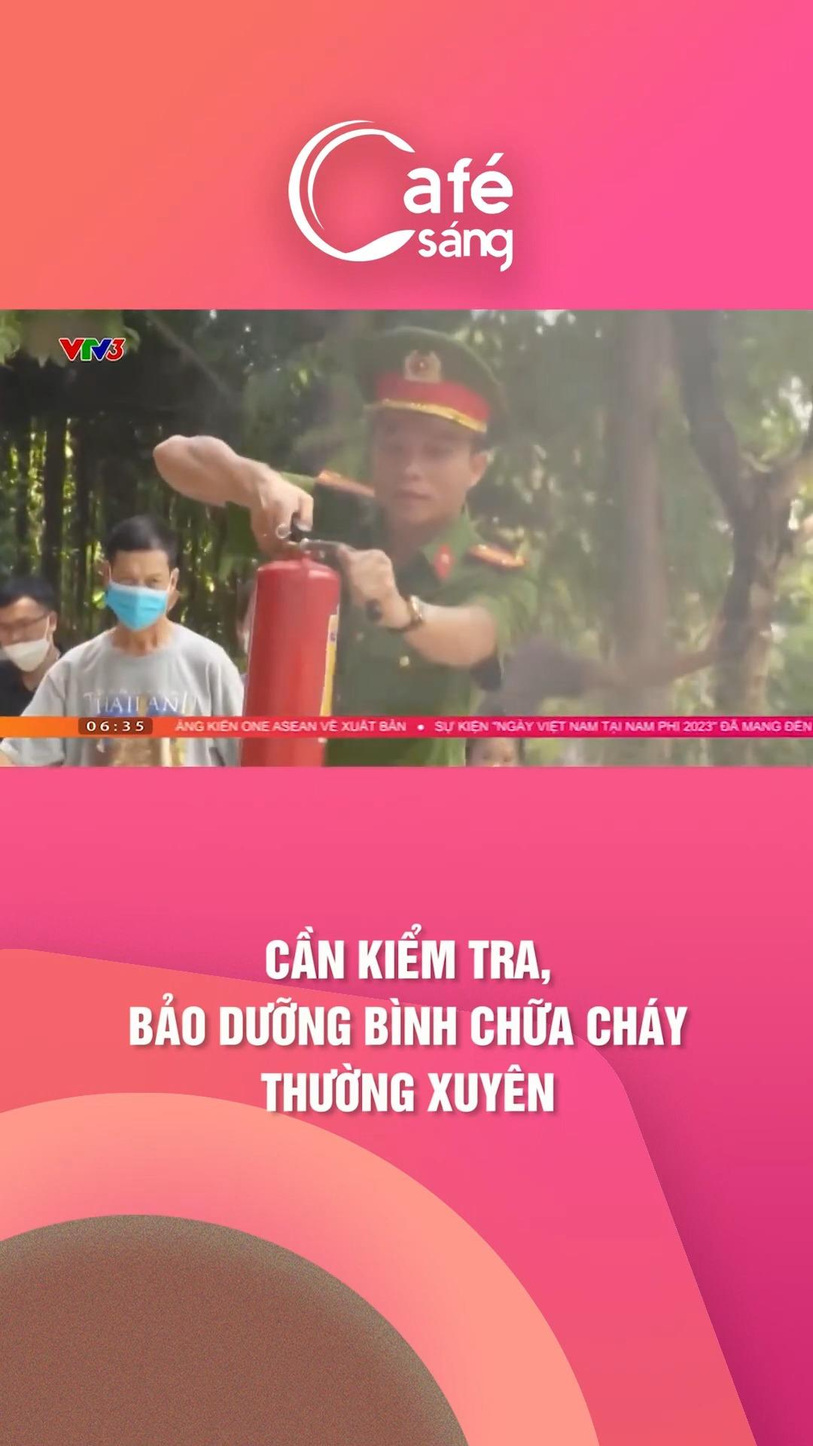FireExtinguisher: (229, 532, 355, 796)
